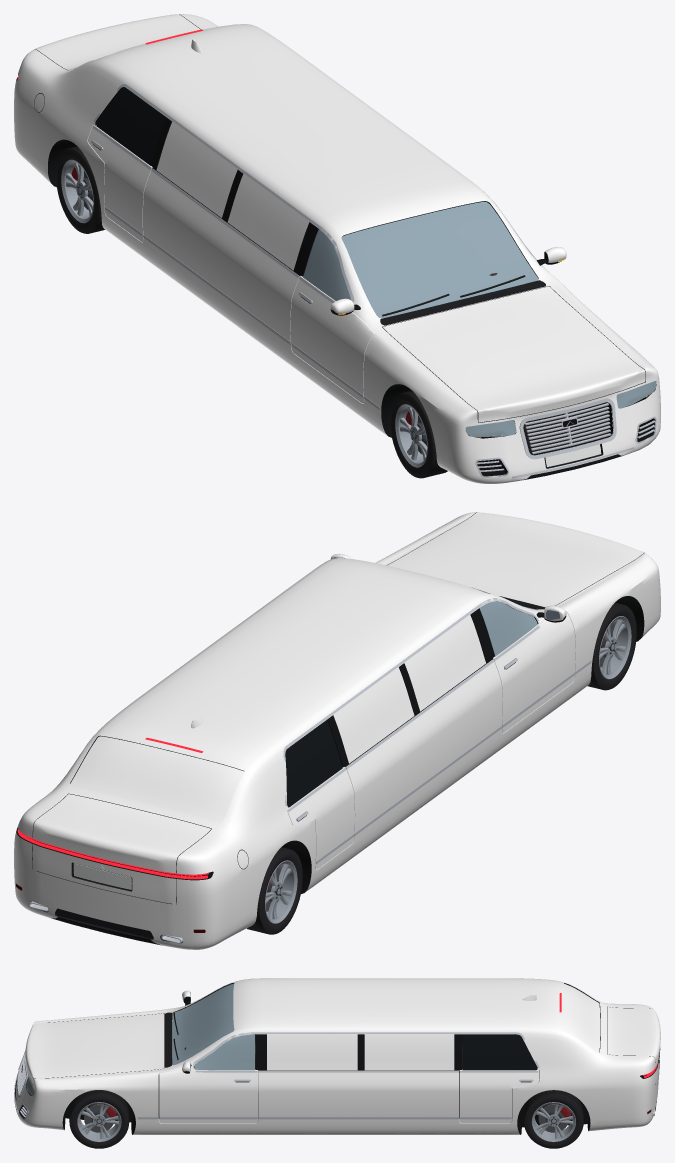
File: ExecutiveLimo.fbx
The picture shows the model from 3 angles, top to bottom: view 1: azimuth 30°, elevation 25°; view 2: azimuth 150°, elevation 25°; view 3: azimuth 270°, elevation 25°; orthographic projection. The views are drawn at different scales.
Parts seen in each view (by area): view 1: Body, Glass, GlassPrivacy, Grille, Door_RearR, Chrome, Wheel_FR, Door_RearR_Glass, Wheel_RR; view 2: Body, GlassPrivacy, Door_RearR, Wheel_RR, Door_RearR_Glass, Wheel_FR, Chrome, Glass, Lights_Rear; view 3: Body, GlassPrivacy, Door_Driver, Door_RearL, Glass, Wheel_FL, Wheel_RL, Door_RearL_Glass, Chrome, Door_Driver_Glass, Grille.
Part boxes in pixels (left/top/right/bottom): Body: left=14, top=14, right=660, bottom=483; Glass: left=303, top=201, right=656, bottom=436; GlassPrivacy: left=96, top=55, right=309, bottom=270; Grille: left=477, top=398, right=655, bottom=471; Door_RearR: left=88, top=125, right=152, bottom=241; Chrome: left=94, top=84, right=656, bottom=478; Wheel_FR: left=390, top=390, right=447, bottom=478; Door_RearR_Glass: left=96, top=87, right=165, bottom=165; Wheel_RR: left=56, top=146, right=105, bottom=233; Body: left=14, top=512, right=660, bottom=949; GlassPrivacy: left=70, top=615, right=485, bottom=821; Door_RearR: left=287, top=767, right=354, bottom=869; Wheel_RR: left=247, top=847, right=302, bottom=934; Door_RearR_Glass: left=285, top=720, right=342, bottom=807; Wheel_FR: left=587, top=602, right=636, bottom=690; Chrome: left=29, top=598, right=591, bottom=943; Glass: left=471, top=587, right=537, bottom=656; Lights_Rear: left=16, top=737, right=208, bottom=932; Body: left=14, top=978, right=660, bottom=1134; GlassPrivacy: left=267, top=984, right=600, bottom=1070; Door_Driver: left=159, top=1069, right=257, bottom=1123; Door_RearL: left=459, top=1069, right=539, bottom=1123; Glass: left=26, top=983, right=234, bottom=1096; Wheel_FL: left=69, top=1090, right=129, bottom=1148; Wheel_RL: left=524, top=1090, right=583, bottom=1148; Door_RearL_Glass: left=462, top=1034, right=537, bottom=1070; Chrome: left=14, top=1032, right=660, bottom=1119; Door_Driver_Glass: left=195, top=1034, right=254, bottom=1070; Grille: left=16, top=1051, right=27, bottom=1117.
Size of the model in its own units: 7.68 by 5.57 by 27.13.
